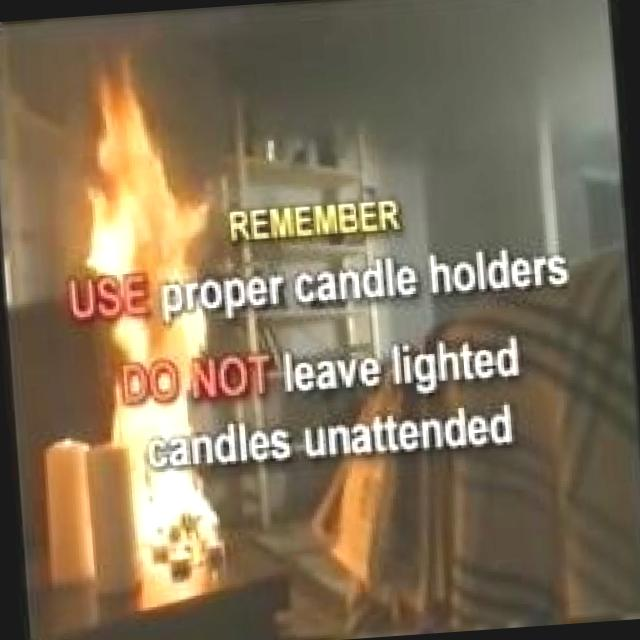fire: (57, 52, 231, 555)
